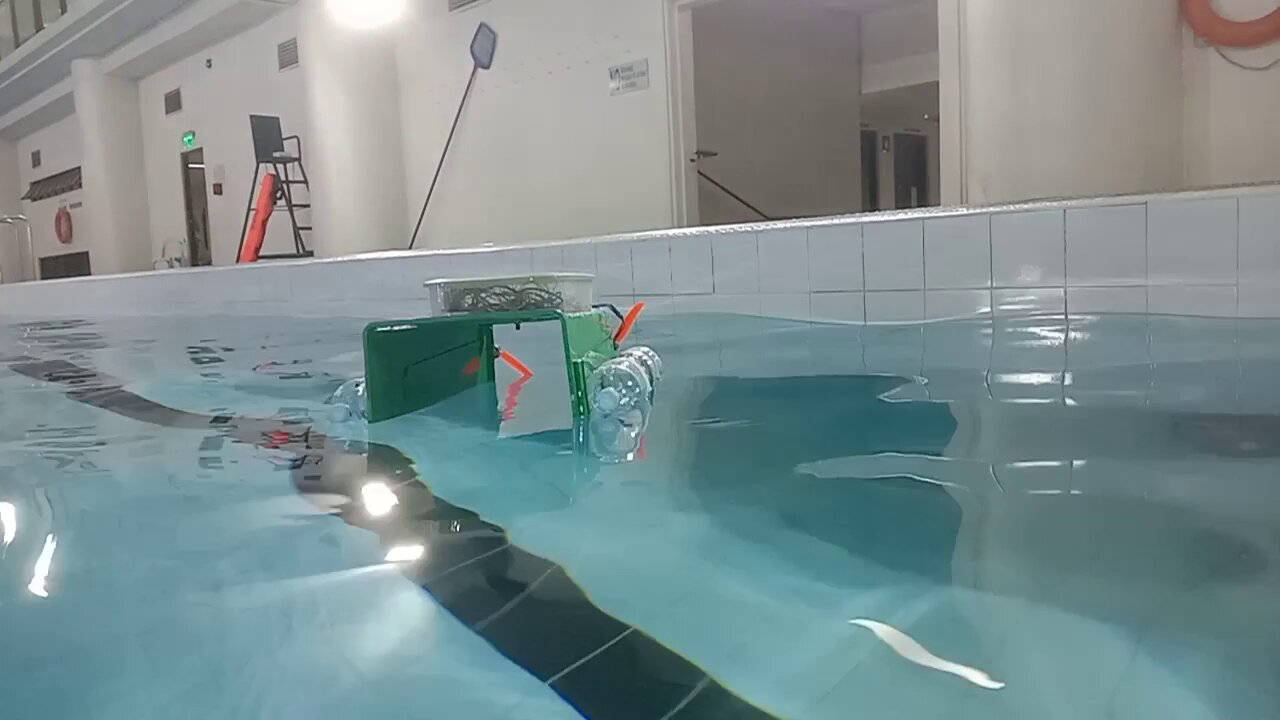drone: (323, 271, 662, 430)
